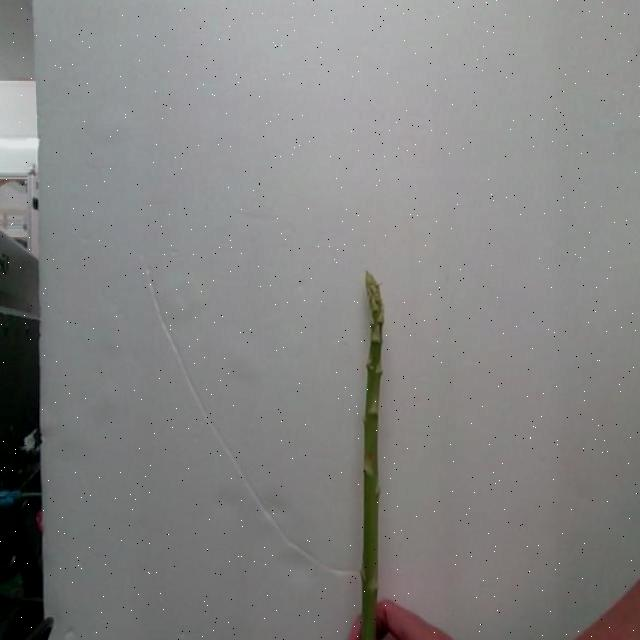aspargus: (357, 274, 386, 640)
